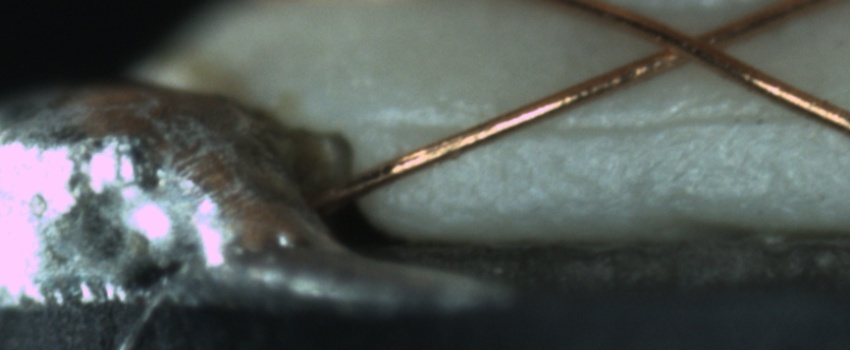CL: (644, 15, 742, 74)
DL: (367, 96, 850, 160)
